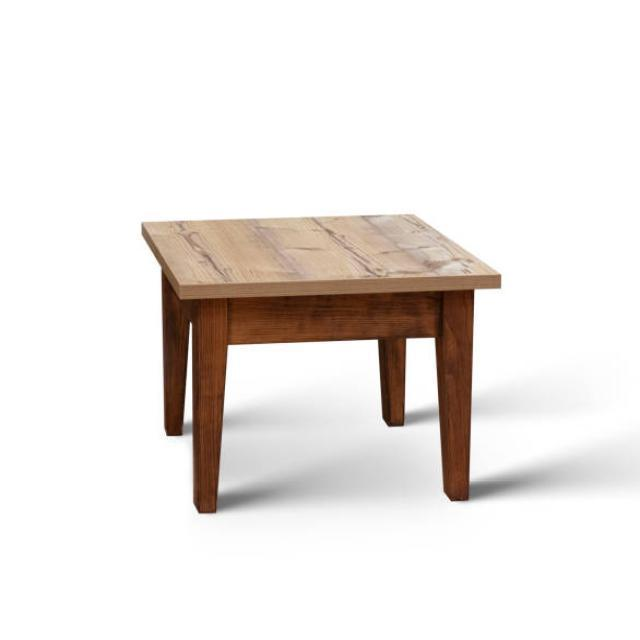table: (139, 212, 502, 514)
